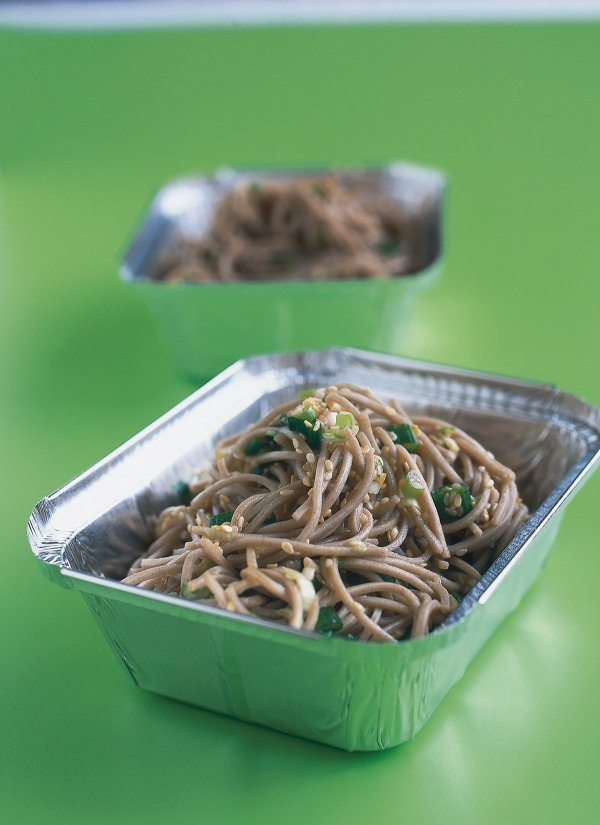Soba: (122, 381, 534, 656)
